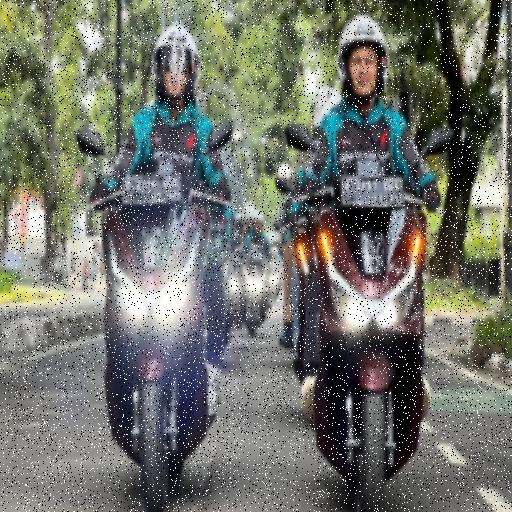Helmet: (335, 18, 390, 102), (152, 23, 199, 105)
Motor: (91, 161, 225, 511), (295, 163, 425, 511)
